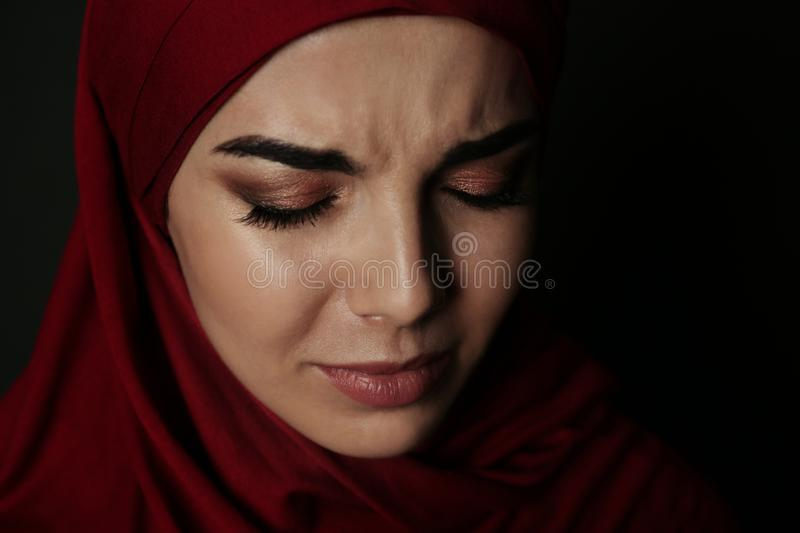No Mask: (157, 19, 575, 491)
